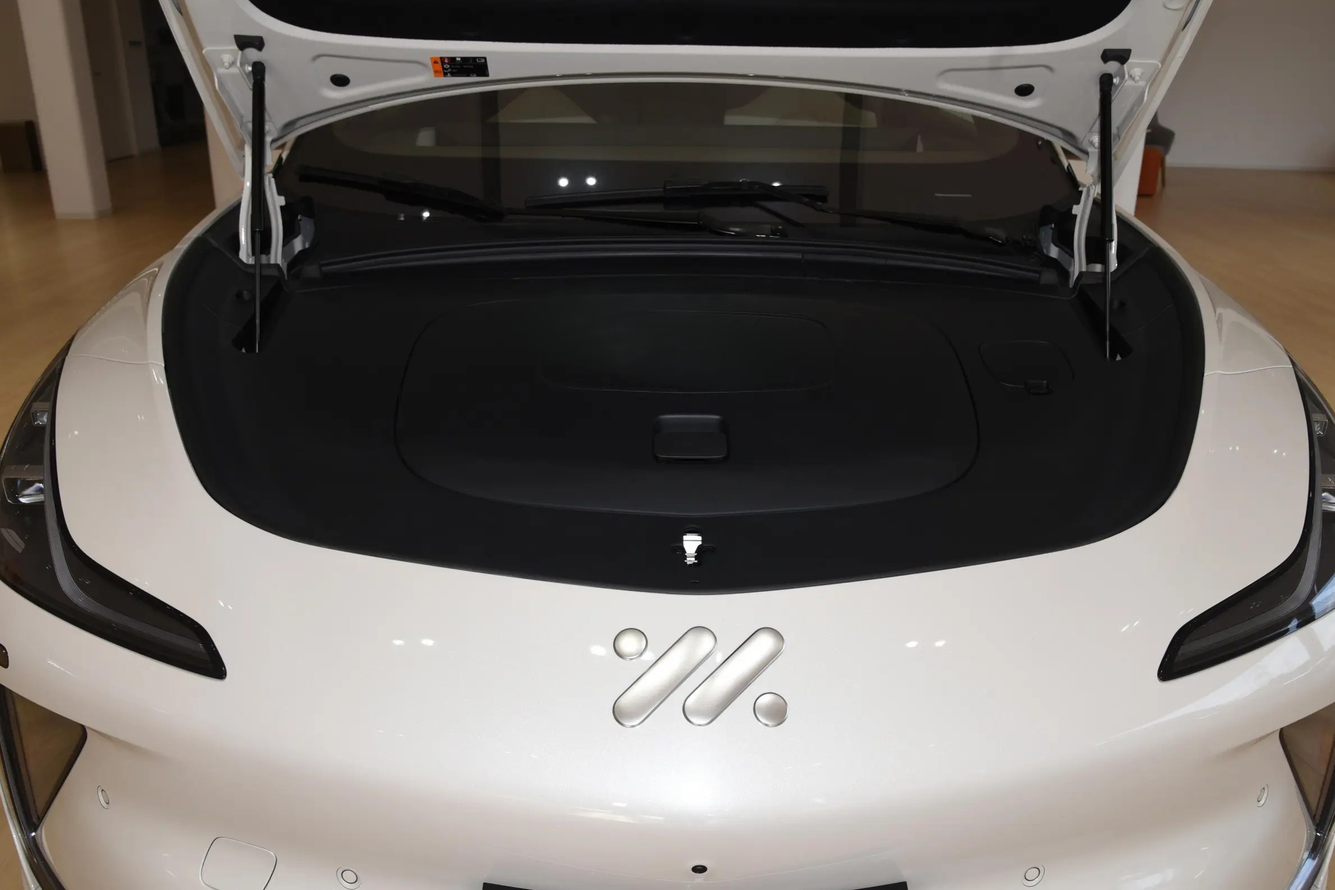IM: (613, 627, 786, 727)
